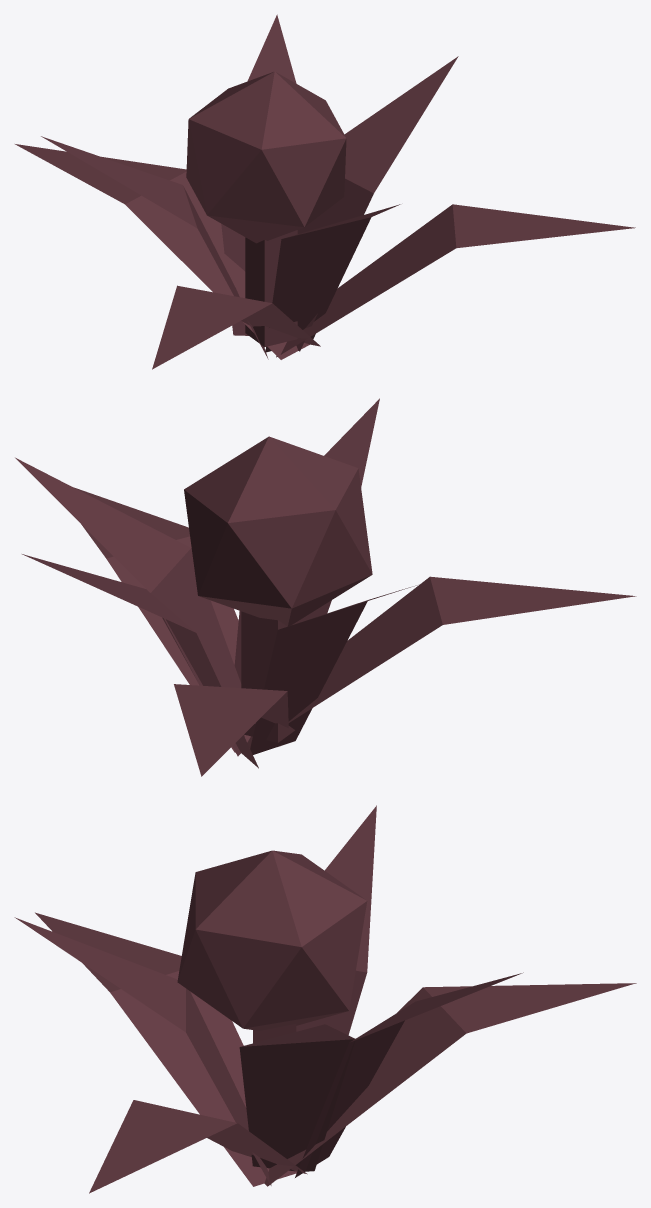
File: nature-flower-red.glb
3 views of the same model, one above another, from view 1: azimuth 30°, elevation 25°; view 2: azimuth 150°, elevation 25°; view 3: azimuth 270°, elevation 25° (orthographic). The views are drawn at different scales.
Parts seen in each view (by area): view 1: flower-red; view 2: flower-red; view 3: flower-red.
Part boxes in pixels (x1,y1,x2,y2): flower-red: (15,14,635,369); flower-red: (15,398,636,776); flower-red: (14,805,636,1193).
Bounding box in the file's own units: 0.4385 × 0.2292 × 0.4103.
